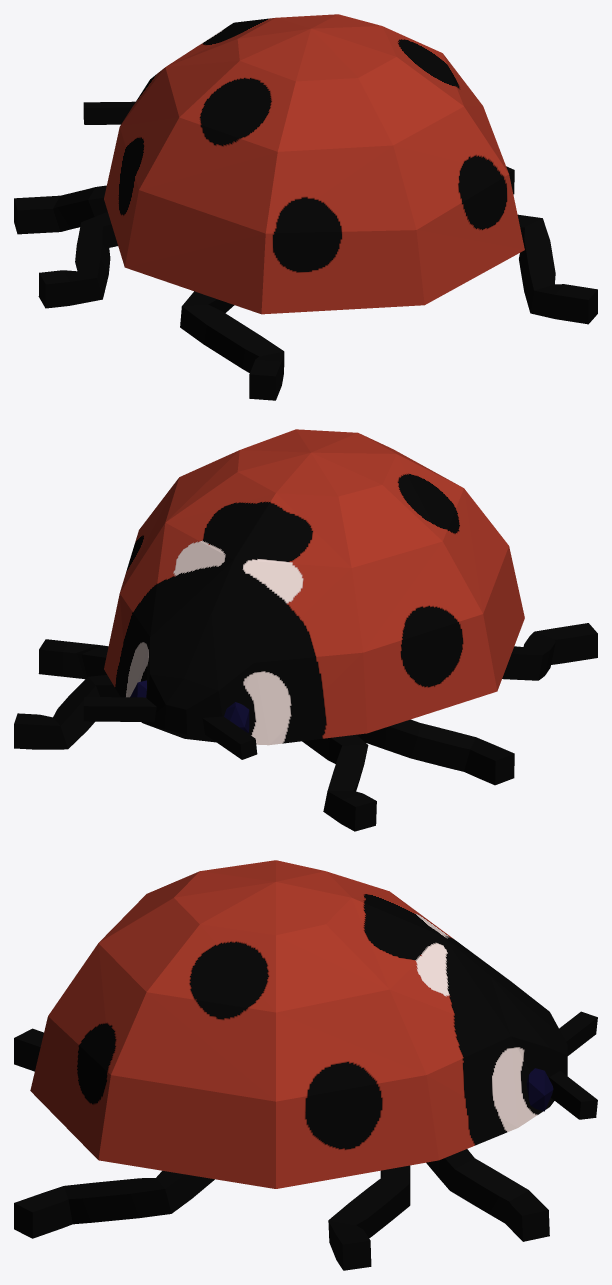
The model's file is ladybird.fbx.
3 renders of one model, top to bottom at view 1: azimuth 30°, elevation 25°; view 2: azimuth 150°, elevation 25°; view 3: azimuth 270°, elevation 25°, orthographic. The views are drawn at different scales.
Visible parts, largest first — view 1: ladybird; view 2: ladybird; view 3: ladybird.
Part boxes in pixels (left/top/right/bottom): ladybird: left=14, top=14, right=597, bottom=400; ladybird: left=14, top=429, right=597, bottom=831; ladybird: left=14, top=860, right=597, bottom=1270.
Bounding box in the file's own units: 252 × 251 × 126.
Materials: 1 (1 with a texture image).
